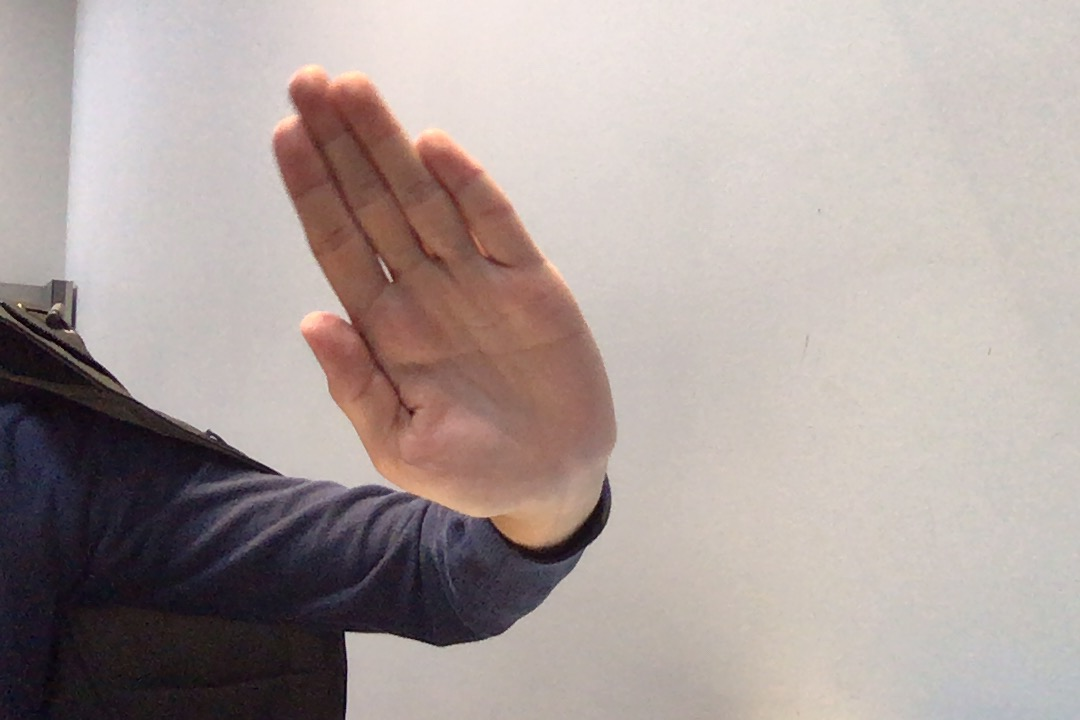palmhand: (244, 52, 648, 533)
